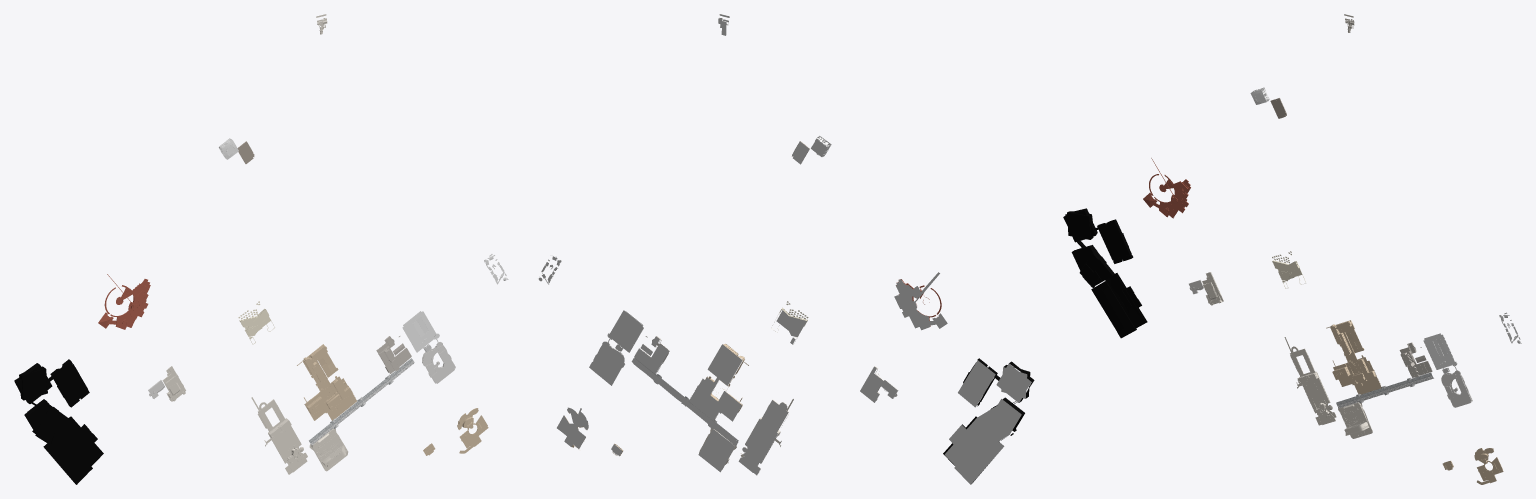
3 renders of one model, left to right at view 1: azimuth 30°, elevation 25°; view 2: azimuth 150°, elevation 25°; view 3: azimuth 330°, elevation 25°, orthographic. The views are drawn at different scales.
Bounding box in the file's own units: 7666 × 7022 × 135.
